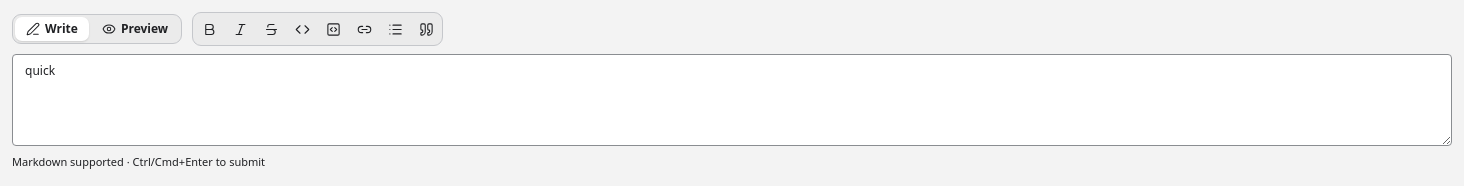
Test case: MarkdownComposer › wraps the selection when a toolbar action is used
Step 1. Click the button named "Bold" → (209, 29), box [195,15,223,43]
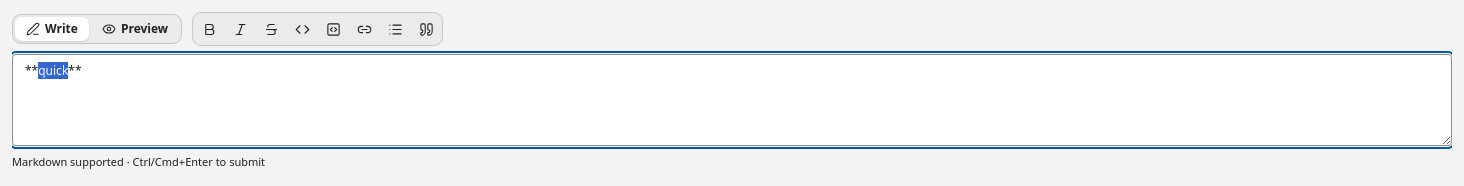
Now the text box named "Comment body" holds "**quick**", box [12,54,1452,146]
